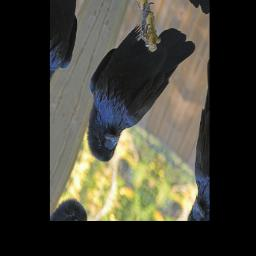Crow: (68, 0, 199, 195)
